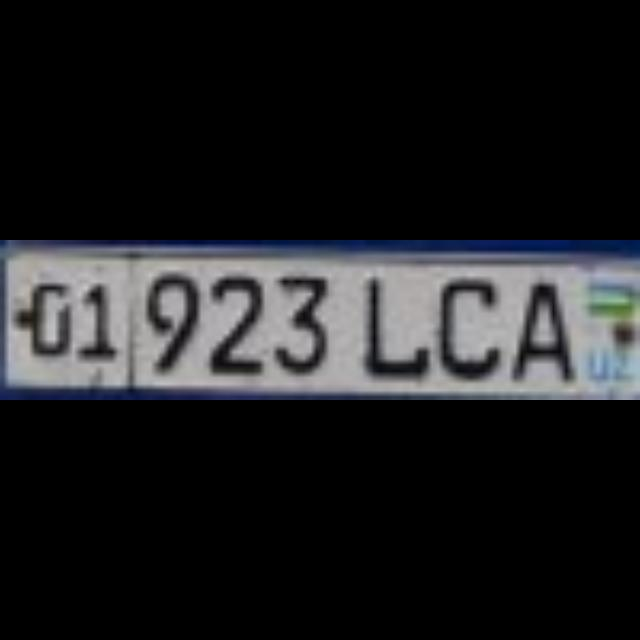0: (20, 279, 64, 349)
1: (77, 278, 115, 356)
2: (204, 272, 256, 368)
3: (268, 272, 320, 368)
9: (134, 266, 192, 368)
A: (506, 272, 570, 374)
C: (435, 272, 493, 374)
L: (352, 272, 422, 374)
